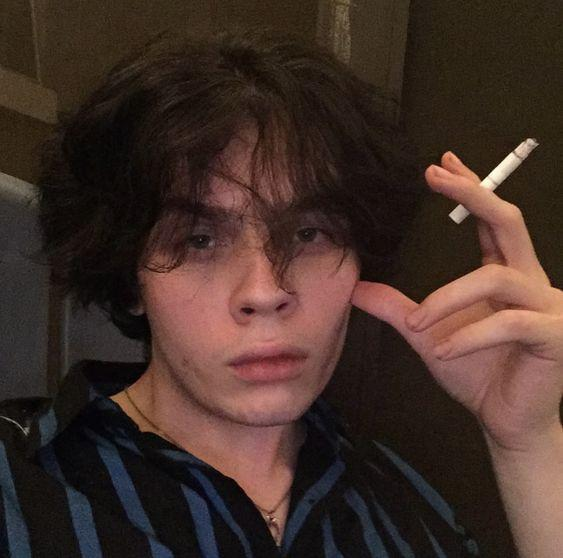cigarette: (448, 138, 538, 225)
